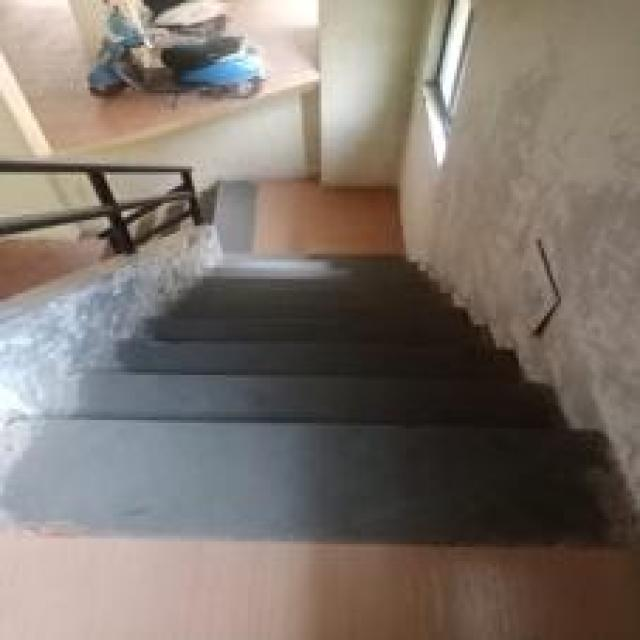stair: (90, 294, 485, 494)
